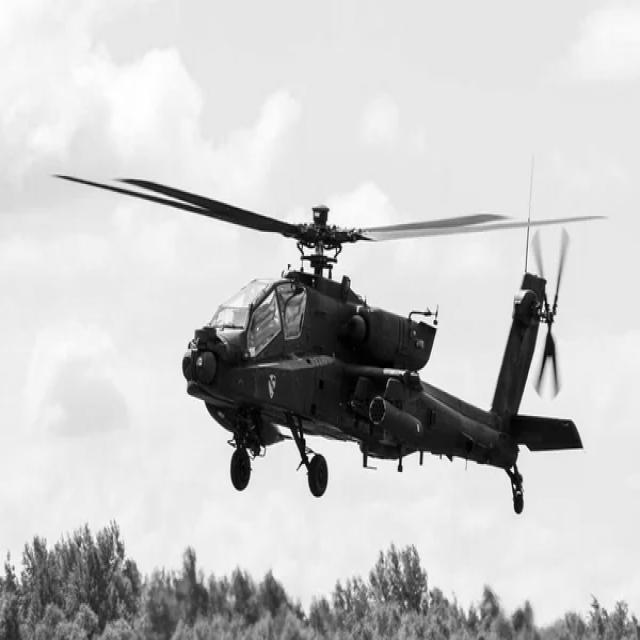Helicopter: (58, 177, 600, 514)
